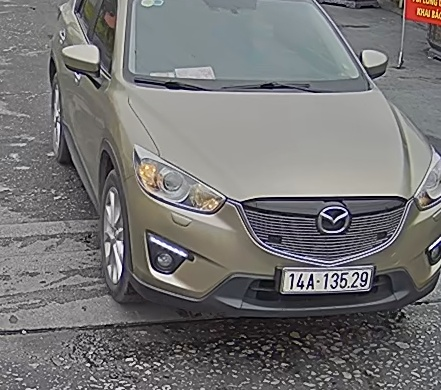vehicle plate: (278, 263, 379, 296)
